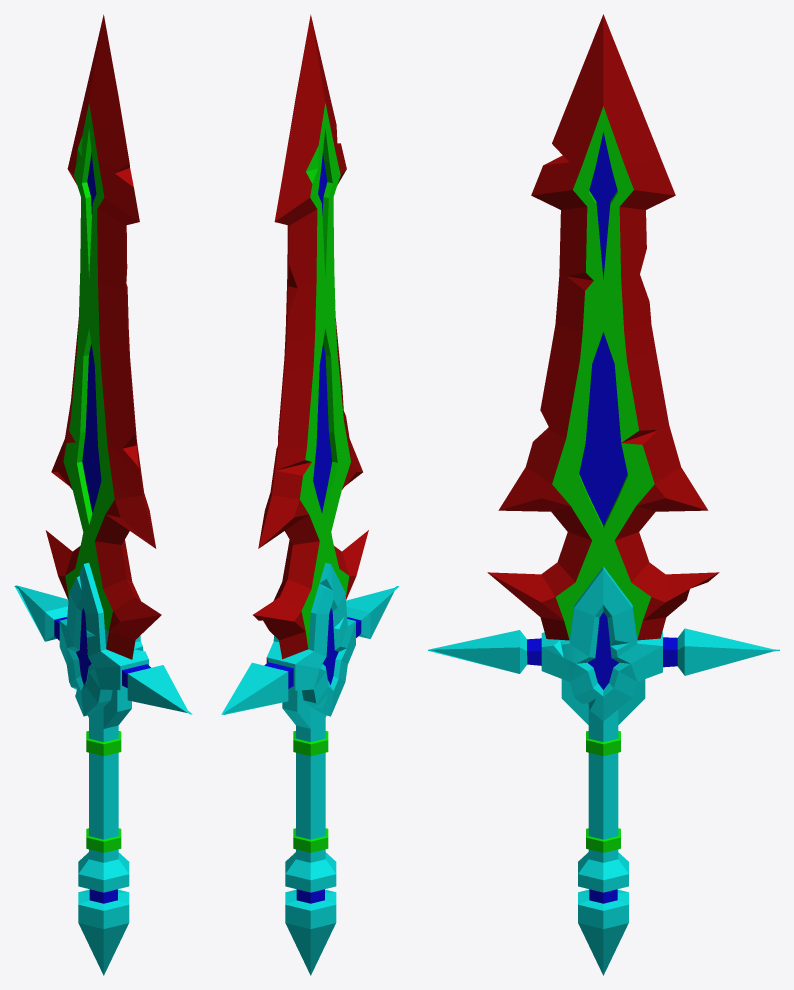
Rendered from Greatsword_Rare_Demonic.fbx.
3 views of the same model, side by side, from view 1: azimuth 30°, elevation 25°; view 2: azimuth 150°, elevation 25°; view 3: azimuth 270°, elevation 25° (orthographic).
Visible parts, largest first — view 1: SM_Wep_Sword_Large_11; view 2: SM_Wep_Sword_Large_11; view 3: SM_Wep_Sword_Large_11.
Boxes of the visible parts, left/top/right/bottom form: SM_Wep_Sword_Large_11: left=14, top=14, right=192, bottom=975; SM_Wep_Sword_Large_11: left=221, top=14, right=399, bottom=975; SM_Wep_Sword_Large_11: left=428, top=14, right=779, bottom=975.
Size of the model in its own units: 9.91 by 179 by 59.45.
